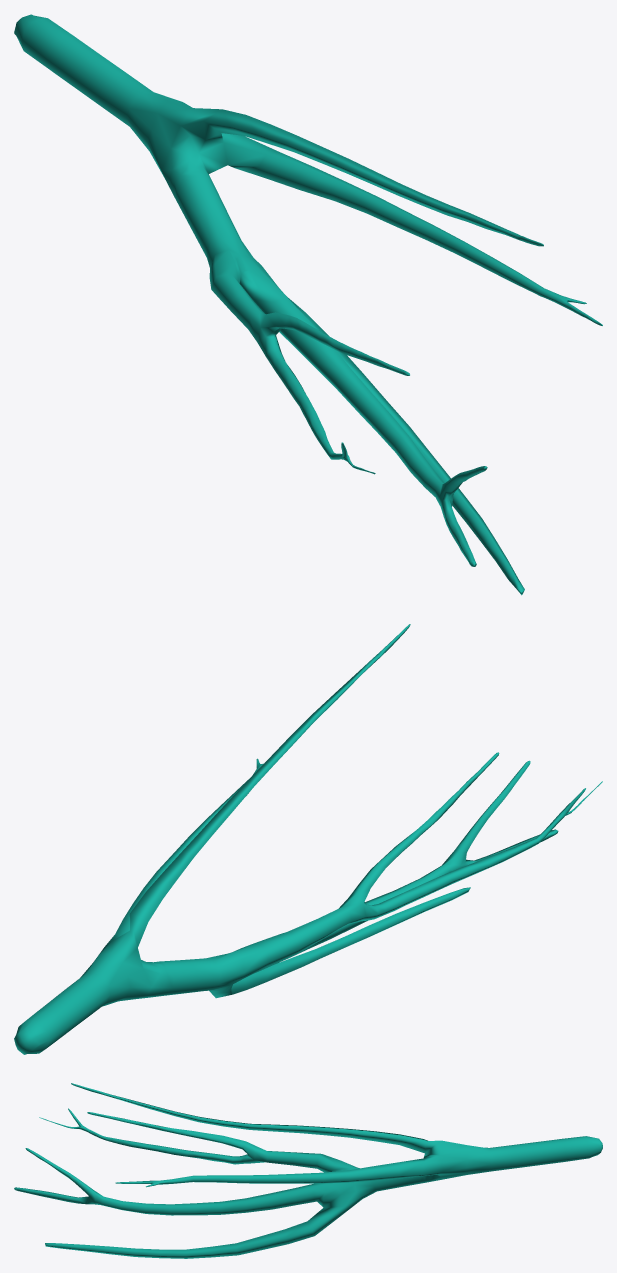
Rendered from Olfactory_nerve_L.glb.
3 views of the same model, one above another, from view 1: azimuth 30°, elevation 25°; view 2: azimuth 150°, elevation 25°; view 3: azimuth 270°, elevation 25° (orthographic). The views are drawn at different scales.
Parts seen in each view (by area): view 1: Olfactory_nerve_L.001; view 2: Olfactory_nerve_L.001; view 3: Olfactory_nerve_L.001.
Boxes of the visible parts, x1,y1,x2,y2 form: Olfactory_nerve_L.001: (14,14,602,595); Olfactory_nerve_L.001: (14,624,602,1054); Olfactory_nerve_L.001: (14,1083,602,1258).
Bounding box in the file's own units: 0.0133 × 0.013 × 0.0393.
Materials: 1 (1 with a texture image).
